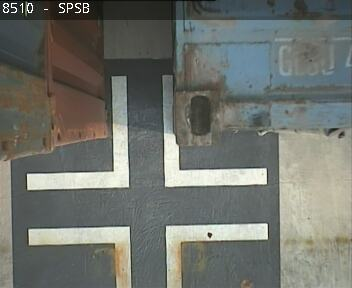groundmarker_1: (26, 74, 268, 190), (29, 222, 269, 287)
